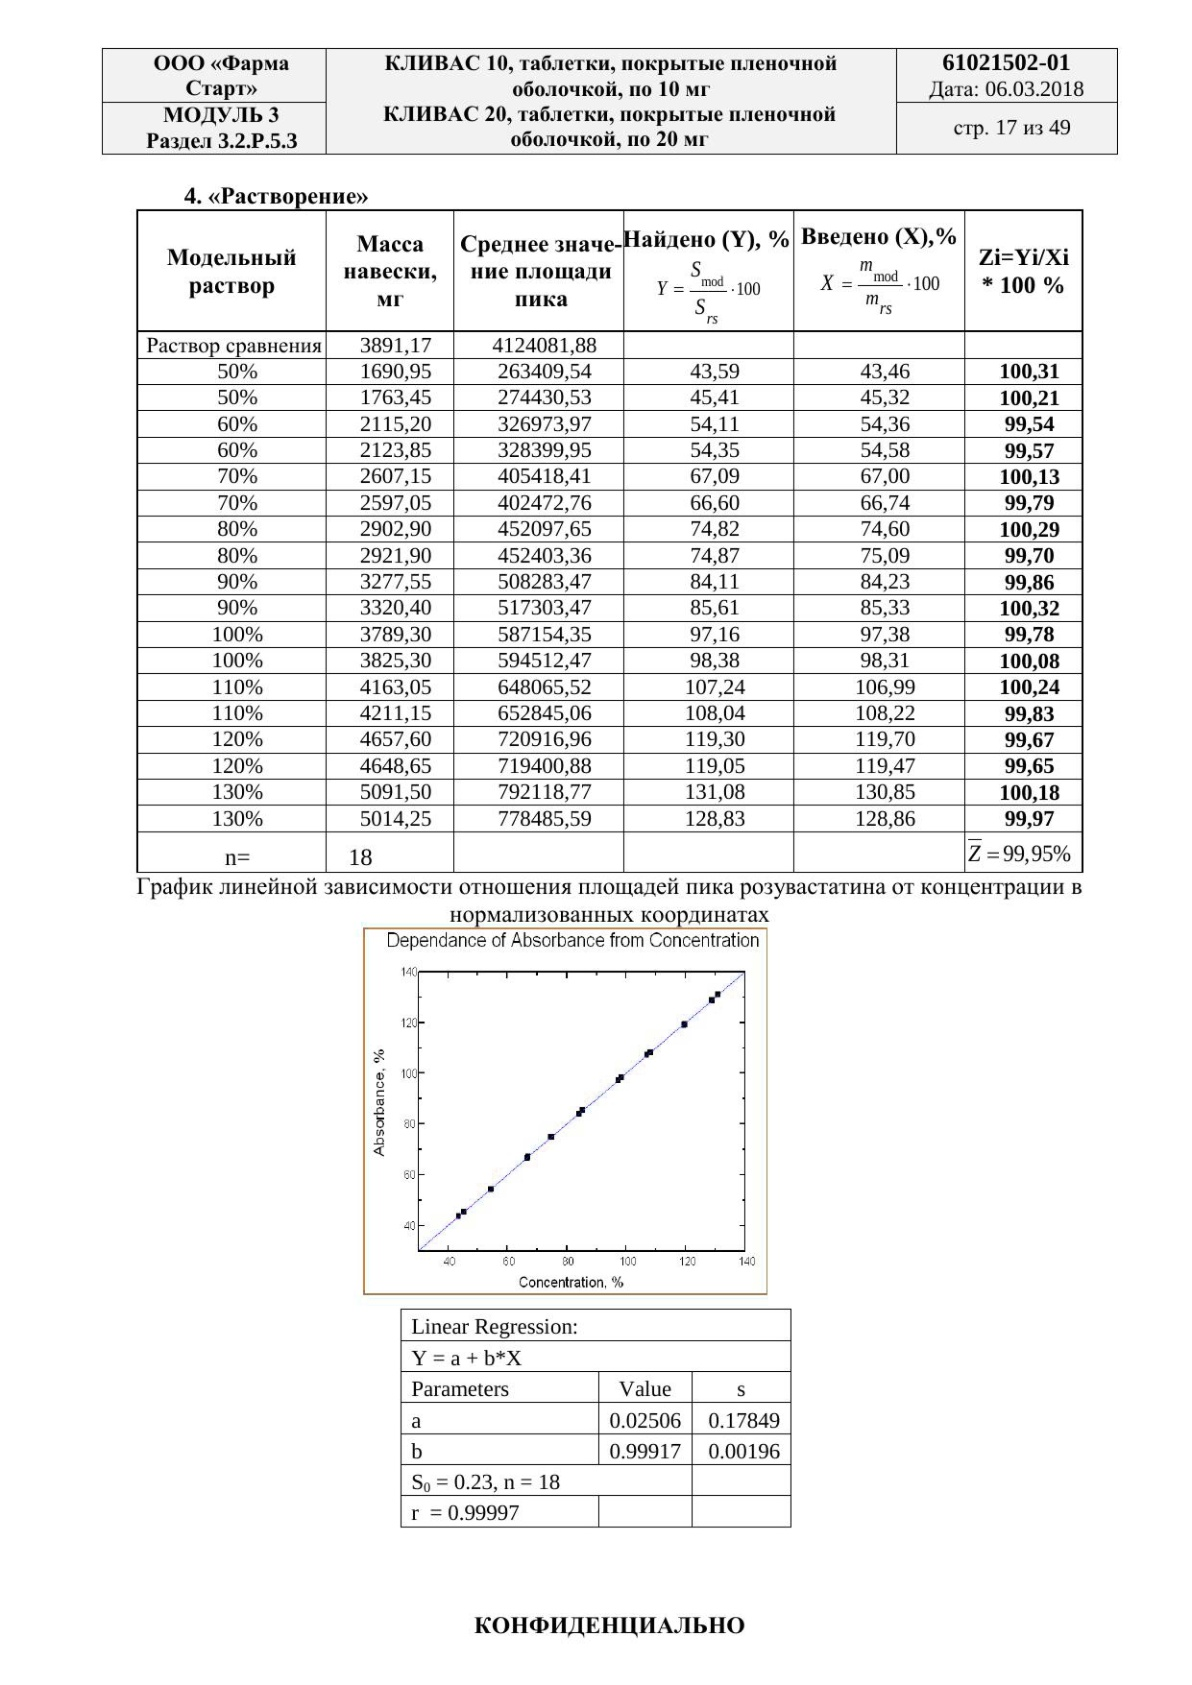full_lined: (135, 208, 1085, 873)
merged_cells: (101, 46, 1118, 156), (399, 1306, 793, 1529)
